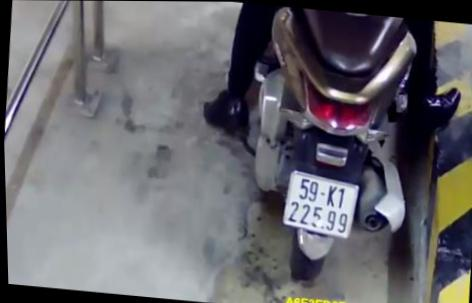LP: (279, 166, 359, 237)
